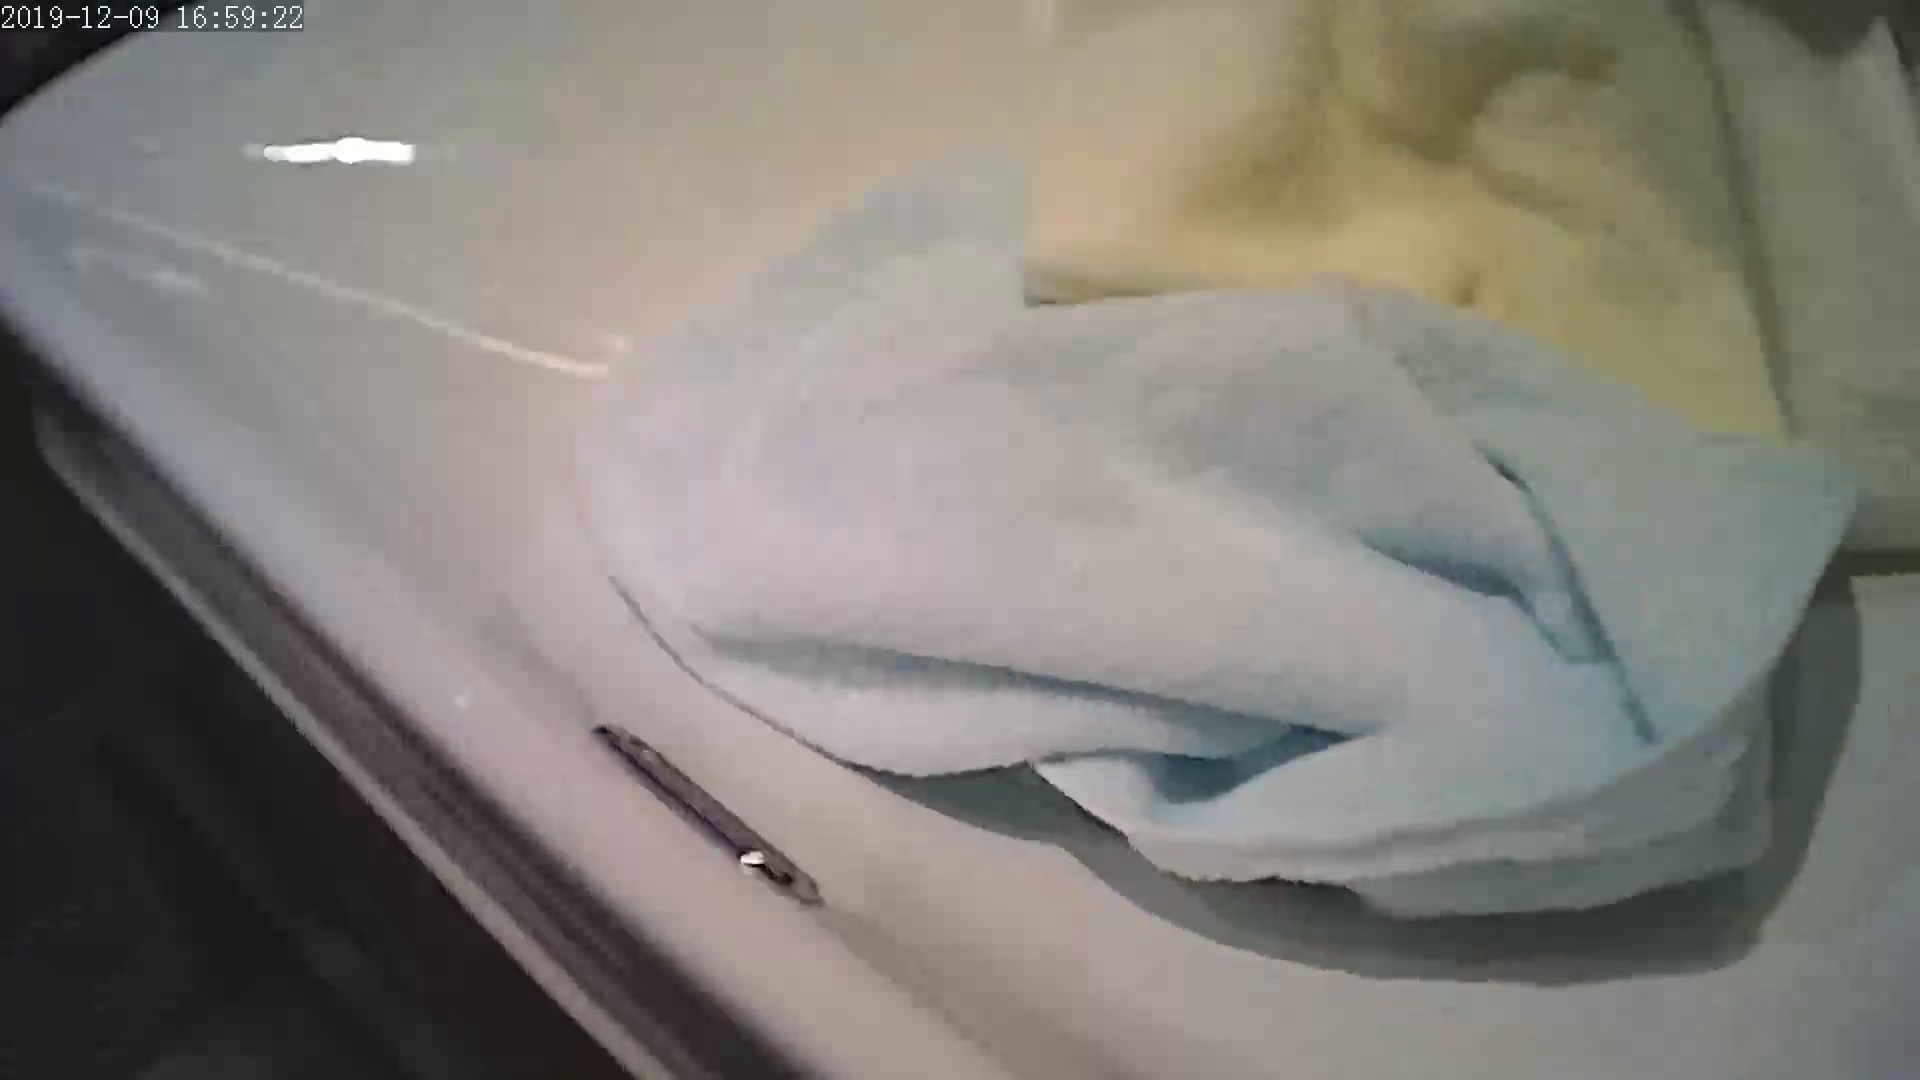bluecloth: (644, 316, 1768, 891)
sink: (9, 42, 1884, 1052)
yellowcloth: (1031, 17, 1859, 378)
